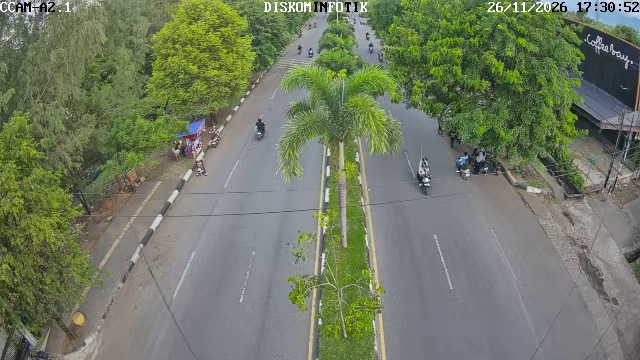Gerobak: (172, 116, 205, 158)
